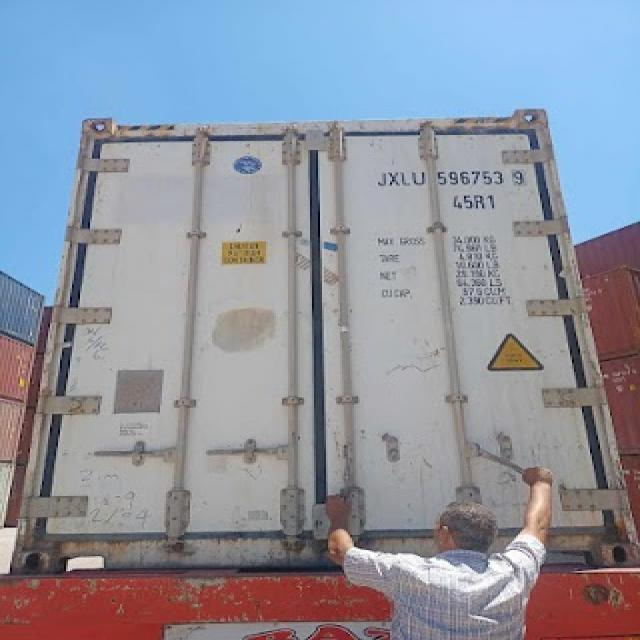ISO: (453, 190, 498, 210)
container_number: (383, 170, 526, 188)
